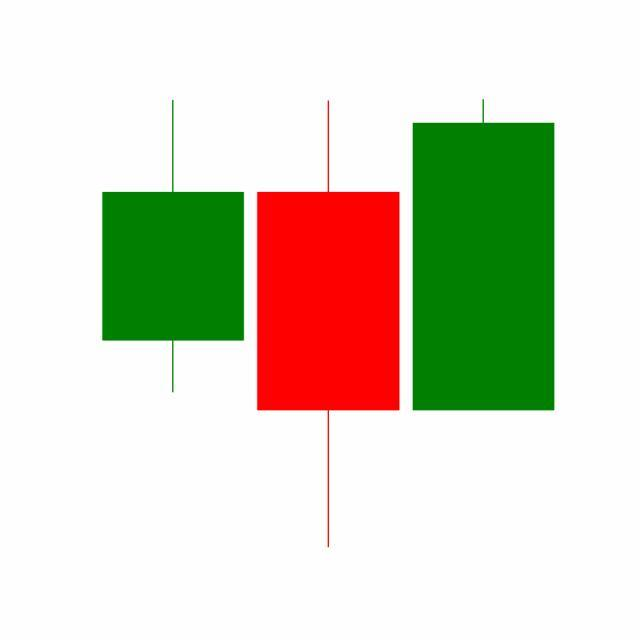Marubozu: (406, 96, 562, 414)
